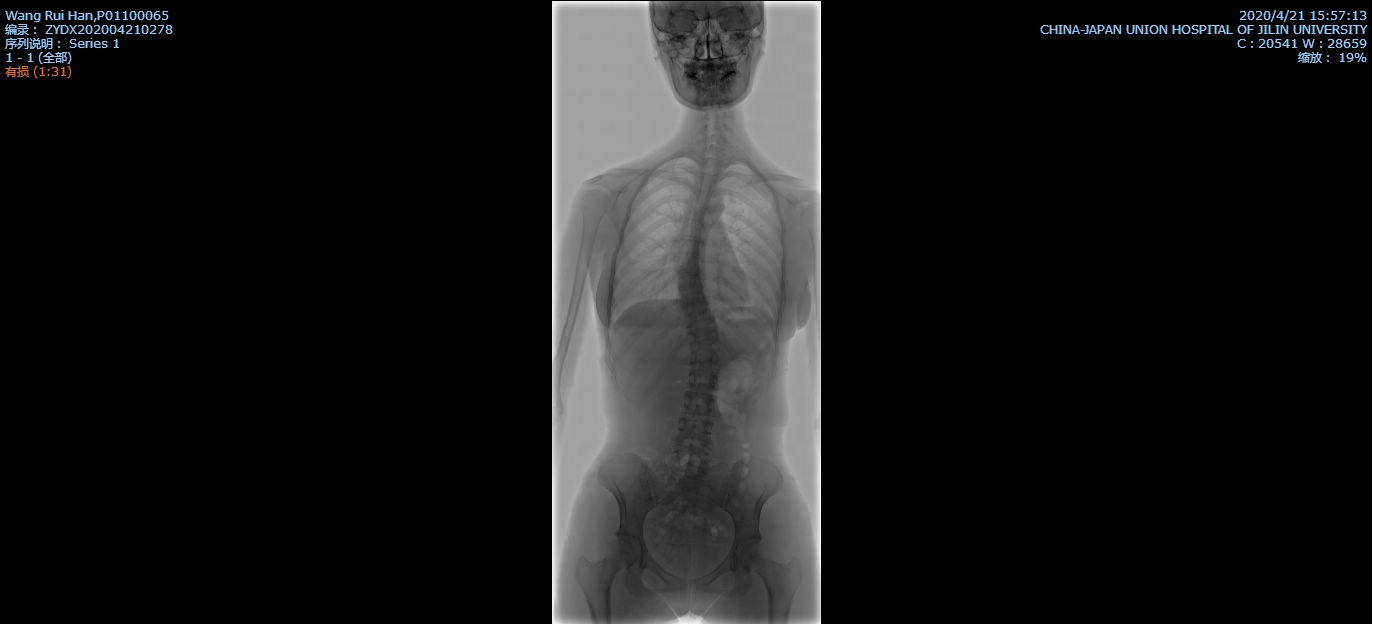Bone: (674, 442, 711, 464), (679, 418, 712, 437), (685, 392, 716, 412), (689, 370, 720, 388), (692, 347, 719, 365), (691, 328, 718, 344), (687, 311, 714, 325), (682, 293, 707, 308), (679, 279, 701, 292)
